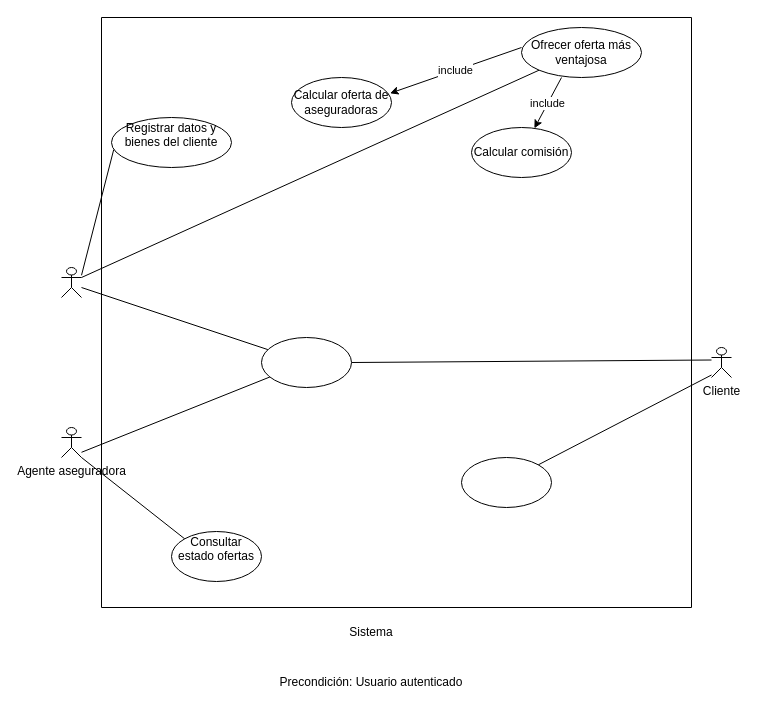
The diagram is 757 pixels wide and 715 high, and some of its shapes have lost their labels. Here are the shapes that lost their labels. From the top down, the centre of each, then its label:
point (71, 282): Técnico comercial
point (306, 362): Autenticarse
point (506, 482): Consultar ofertas
